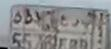5: (23, 8, 33, 49), (13, 10, 21, 49)
E: (58, 13, 69, 49)
R: (70, 18, 79, 49)
